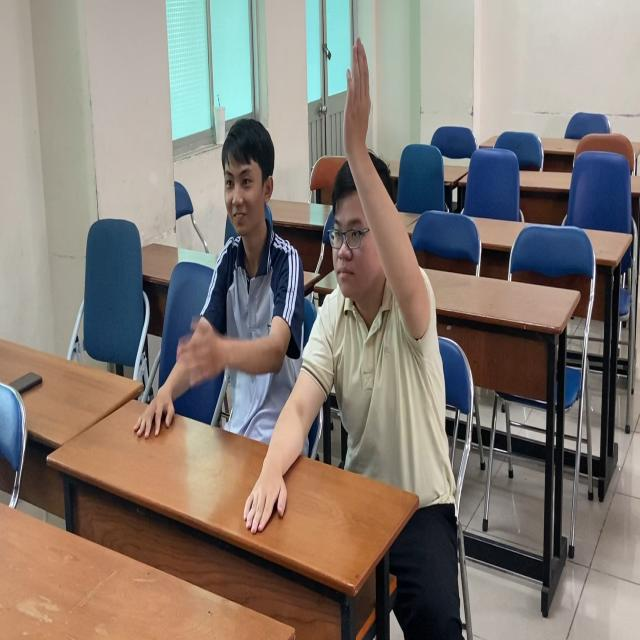raise_hand: (294, 35, 446, 492)
